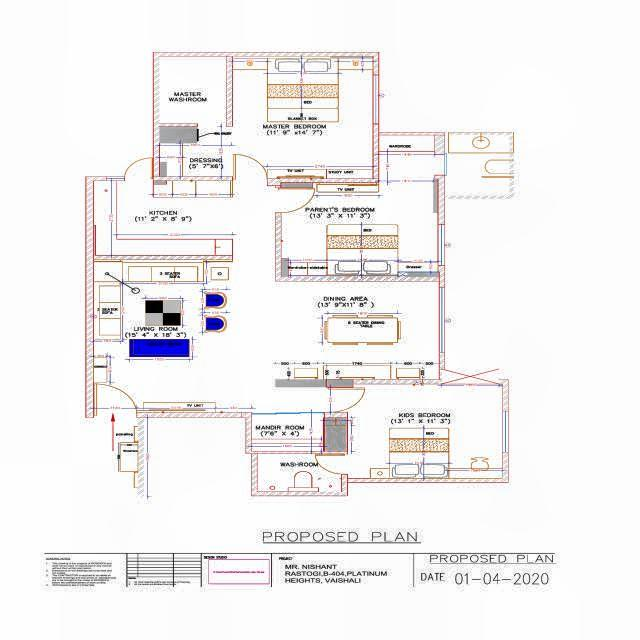room: (280, 134, 439, 276), (94, 260, 234, 406), (233, 56, 372, 178), (276, 282, 437, 378), (353, 384, 503, 478), (94, 182, 234, 255), (160, 57, 225, 123), (447, 134, 511, 195), (160, 126, 231, 177), (258, 455, 340, 492), (254, 413, 323, 452)
